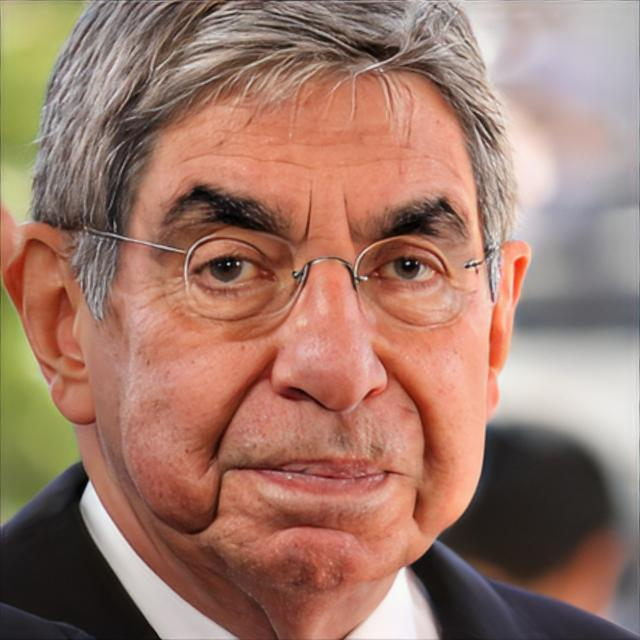anger: (92, 74, 492, 616)
